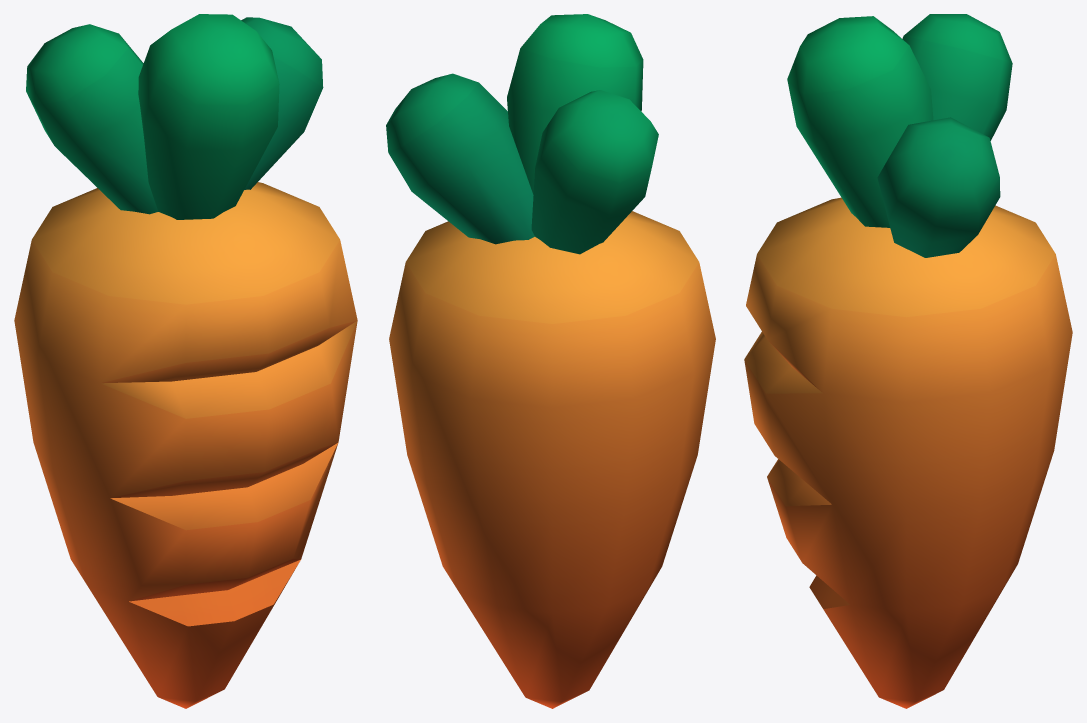
The model's file is kay-food_ingredient_carrot.glb.
The picture shows the model from 3 angles, left to right: view 1: azimuth 30°, elevation 25°; view 2: azimuth 150°, elevation 25°; view 3: azimuth 270°, elevation 25°; orthographic projection. The views are drawn at different scales.
Visible parts, largest first — view 1: food_ingredient_carrot; view 2: food_ingredient_carrot; view 3: food_ingredient_carrot.
Part boxes in pixels (x1,y1,x2,y2): food_ingredient_carrot: (14, 14, 357, 708); food_ingredient_carrot: (386, 14, 715, 708); food_ingredient_carrot: (744, 14, 1072, 708).
Bounding box in the file's own units: 0.097 × 0.22 × 0.0958.
Materials: 1 (1 with a texture image).
